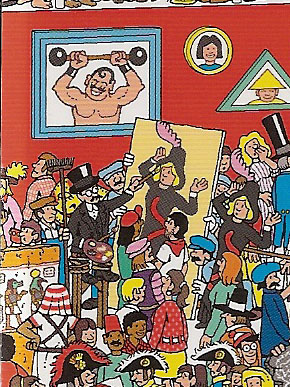waldo: (229, 330, 259, 364)
